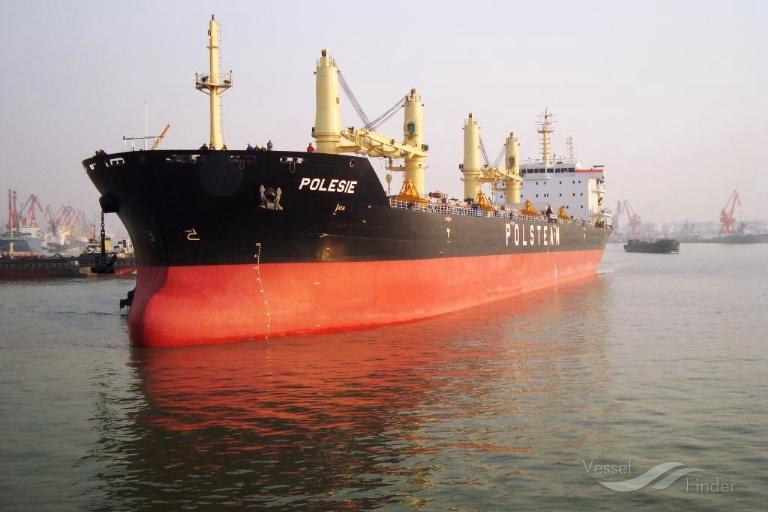OCR: (497, 212, 574, 256), (294, 172, 360, 200)
